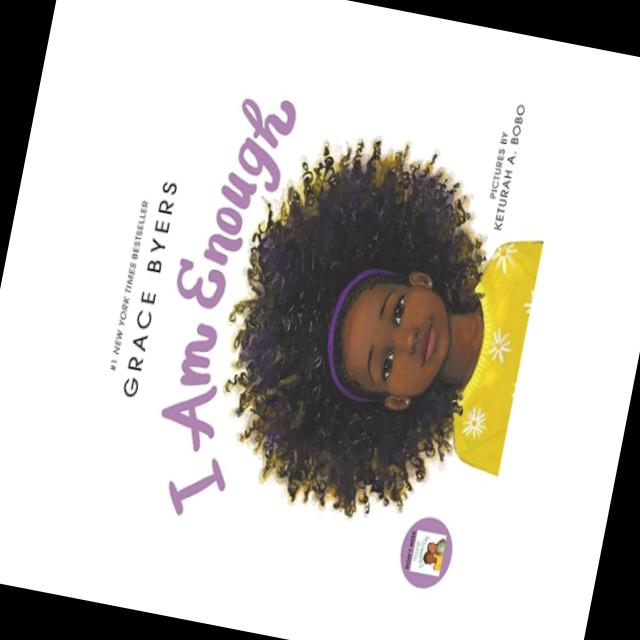titles-or-authors: (123, 58, 314, 533), (111, 172, 185, 410)
